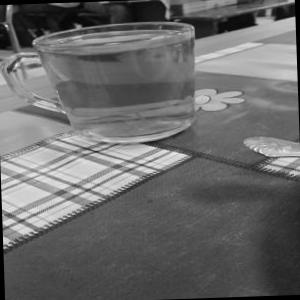tea: (12, 5, 221, 160)
